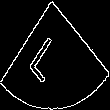L_NE: (35, 26, 75, 84)
